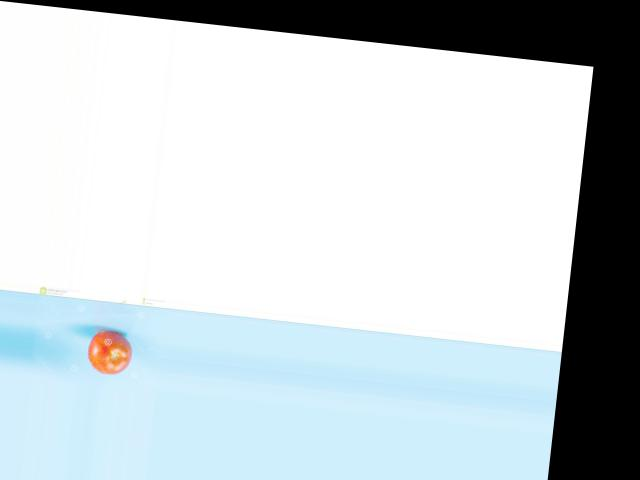tomato: (86, 329, 135, 376)
